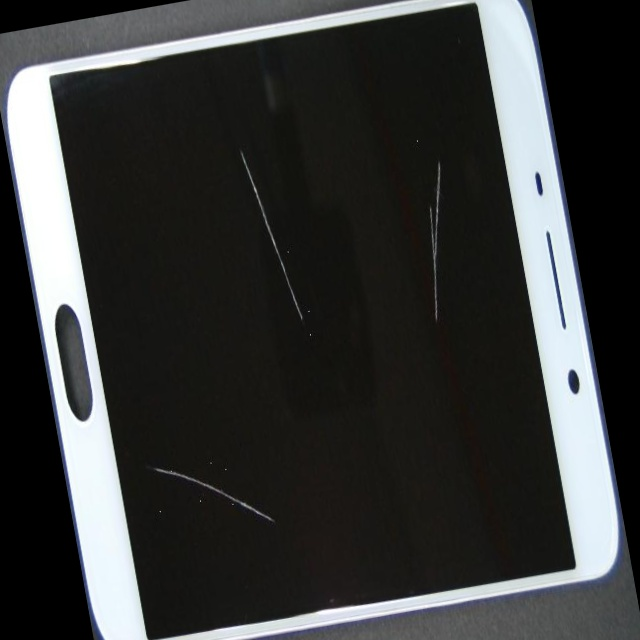scratch: (22, 204, 285, 640), (226, 0, 578, 316), (109, 42, 364, 267)
